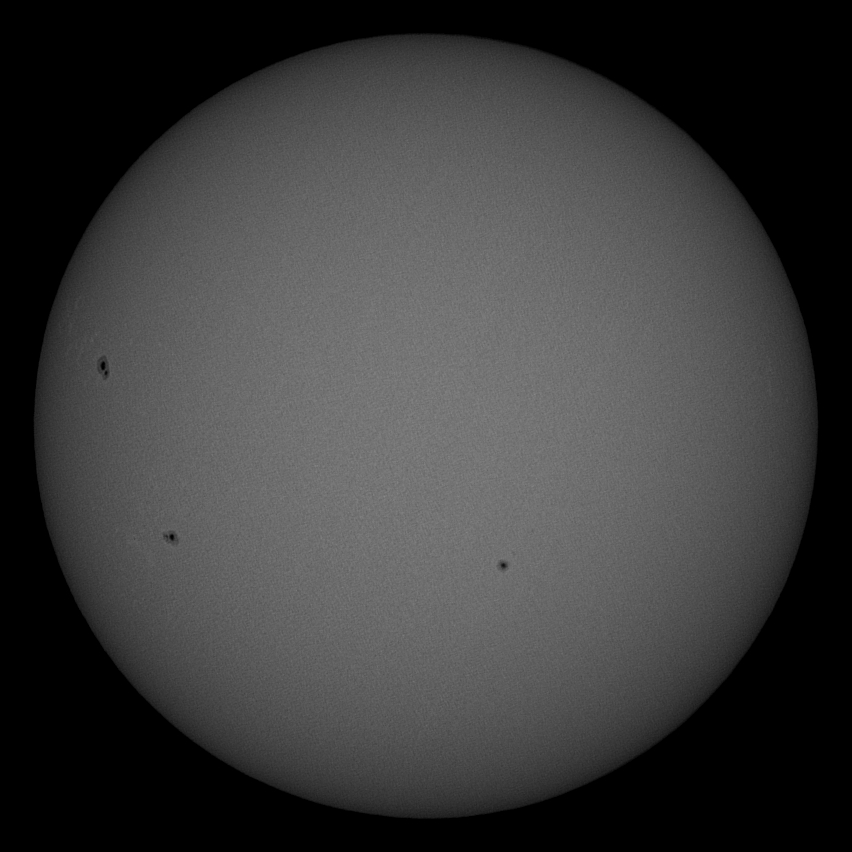sunspot: (94, 352, 112, 382), (158, 526, 181, 547), (495, 555, 512, 573)
